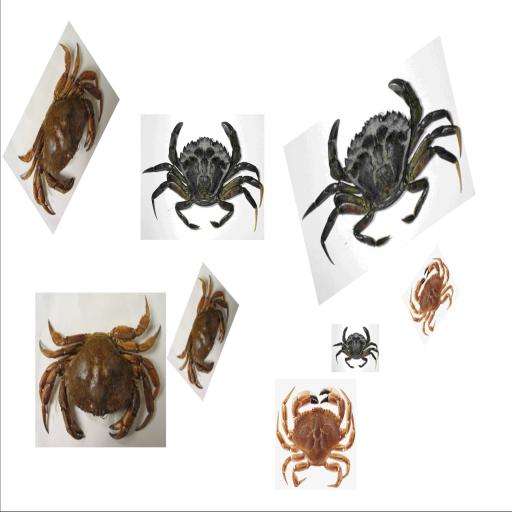green crab: (288, 46, 477, 266), (136, 100, 280, 249), (320, 310, 384, 376)
joe crab: (276, 384, 361, 485), (399, 258, 465, 348)
rock crab: (2, 19, 128, 219), (32, 285, 164, 443), (164, 276, 248, 389)
